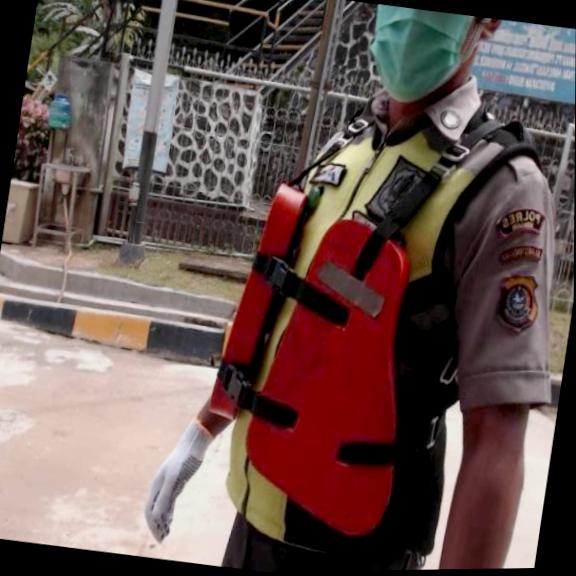safety_vest: (194, 169, 441, 546)
